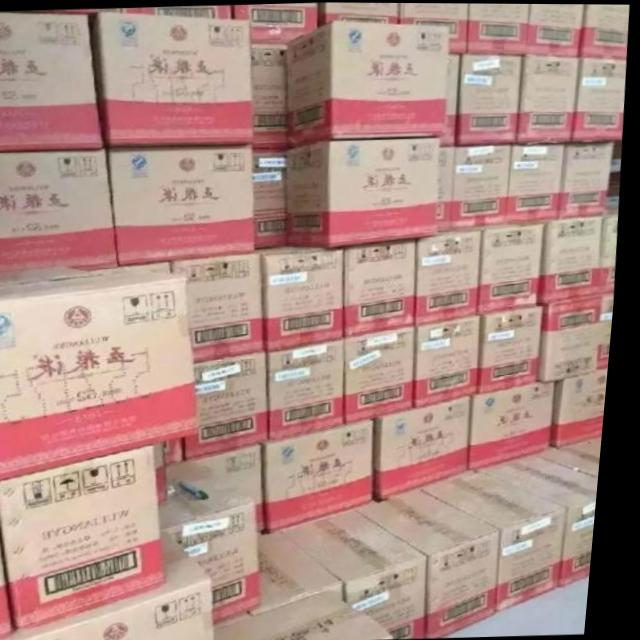box: (0, 266, 208, 482), (0, 445, 176, 629), (1, 530, 227, 640), (362, 487, 512, 637), (91, 13, 255, 150), (424, 468, 577, 612), (286, 21, 450, 147), (285, 506, 435, 638), (478, 444, 608, 588), (167, 458, 275, 624), (110, 146, 259, 266), (290, 135, 443, 247), (0, 151, 125, 274), (0, 12, 104, 151), (270, 419, 384, 532), (175, 253, 270, 364), (382, 396, 478, 502), (224, 586, 406, 640), (262, 244, 349, 352), (192, 352, 277, 460), (272, 338, 350, 440), (346, 238, 422, 338), (348, 327, 423, 425), (266, 529, 355, 610), (477, 381, 558, 469), (202, 442, 279, 530), (481, 220, 550, 315), (420, 228, 485, 327), (421, 316, 487, 409), (458, 53, 523, 144), (485, 304, 549, 393), (544, 216, 607, 303), (519, 54, 581, 142), (544, 294, 606, 382), (455, 144, 515, 230), (555, 366, 615, 446), (573, 54, 627, 142), (510, 142, 568, 223), (563, 143, 615, 218), (251, 42, 288, 147), (232, 2, 319, 43), (255, 147, 290, 248), (399, 2, 469, 52), (0, 496, 24, 640), (467, 3, 530, 55), (527, 3, 585, 54), (581, 3, 629, 58), (317, 2, 403, 27), (440, 54, 462, 147), (120, 4, 233, 19), (438, 145, 457, 232), (605, 203, 622, 294), (37, 7, 122, 23), (603, 291, 619, 369), (566, 435, 610, 463), (160, 445, 179, 505), (170, 437, 195, 465), (127, 261, 175, 274)
